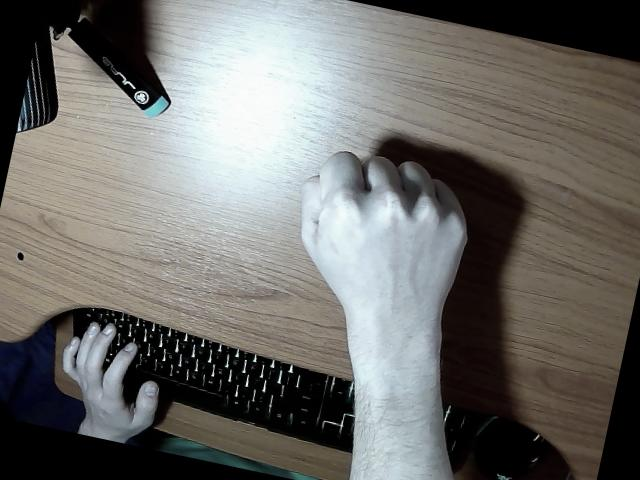rock: (301, 152, 465, 480)
